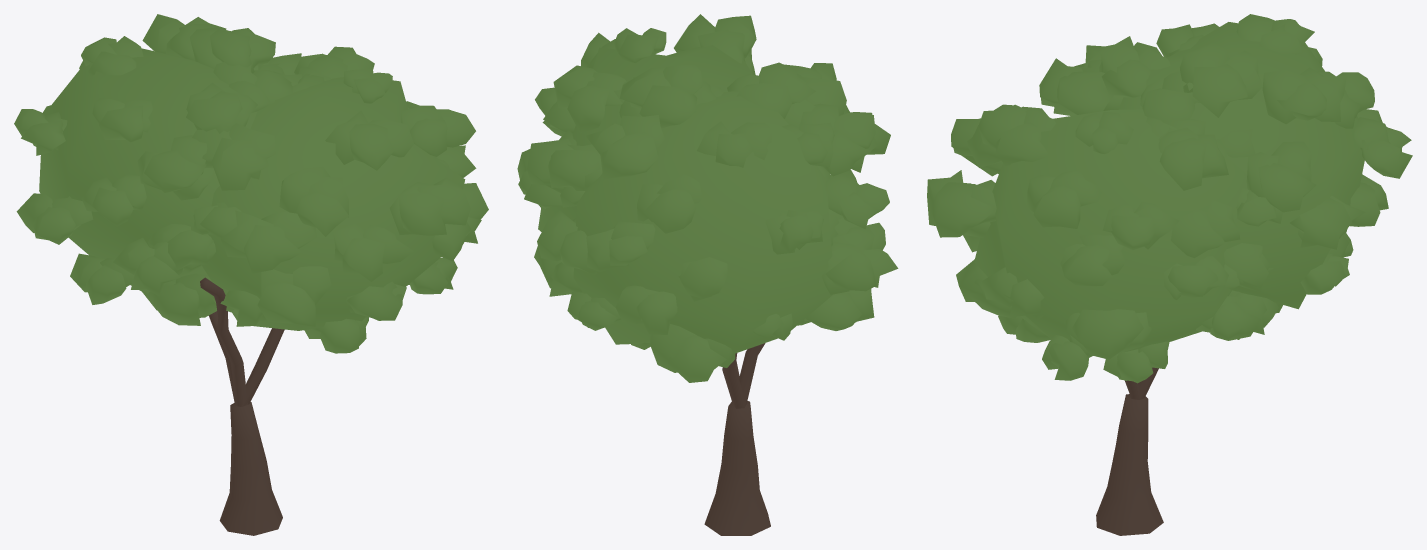
Rendered from Blender_AfricanSumac_2.glb.
3 renders of one model, left to right at view 1: azimuth 30°, elevation 25°; view 2: azimuth 150°, elevation 25°; view 3: azimuth 270°, elevation 25°, orthographic. The views are drawn at different scales.
Parts seen in each view (by area): view 1: Blender_AfricanSumac_2; view 2: Blender_AfricanSumac_2; view 3: Blender_AfricanSumac_2.
Part boxes in pixels (x1,y1,x2,y2): Blender_AfricanSumac_2: (14, 14, 488, 535); Blender_AfricanSumac_2: (517, 14, 898, 535); Blender_AfricanSumac_2: (927, 14, 1412, 535).
Size of the model in its own units: 5.68 by 6.17 by 5.64.
